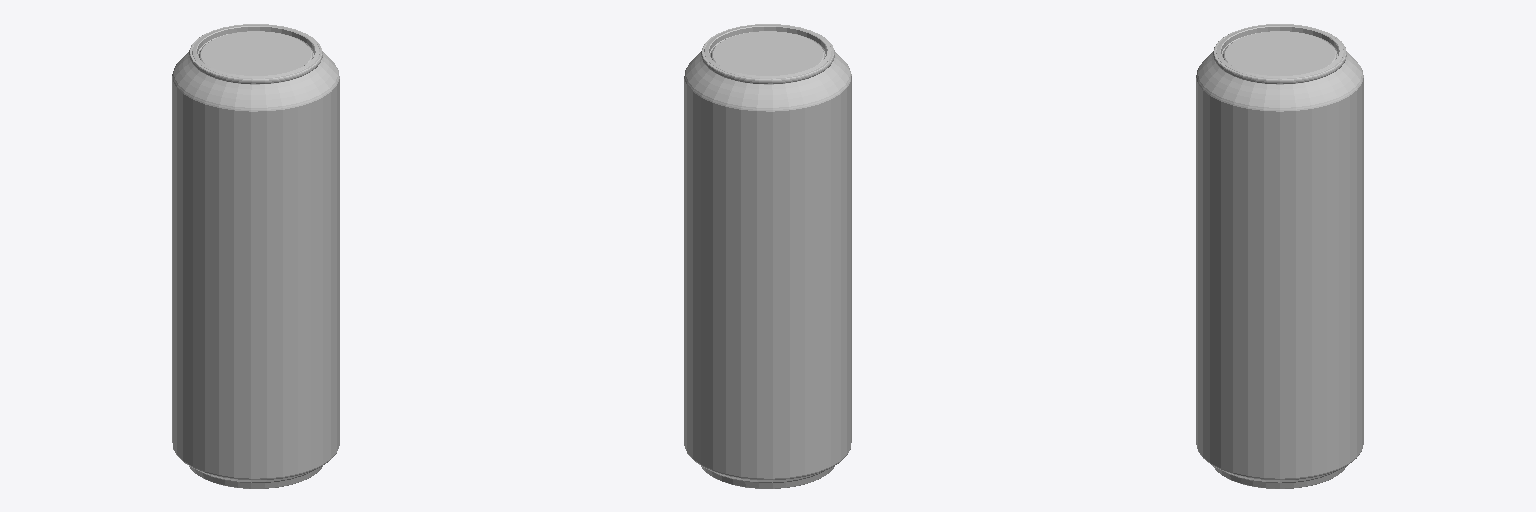
Rendered from can.obj.
3 renders of one model, left to right at view 1: azimuth 30°, elevation 25°; view 2: azimuth 150°, elevation 25°; view 3: azimuth 270°, elevation 25°, orthographic.
Parts seen in each view (by area): view 1: Cylinder; view 2: Cylinder; view 3: Cylinder.
Part boxes in pixels (left/top/right/bottom): Cylinder: left=172, top=24, right=339, bottom=488; Cylinder: left=684, top=24, right=851, bottom=488; Cylinder: left=1196, top=24, right=1363, bottom=488.
Bounding box in the file's own units: 1.54 × 4.15 × 1.54.